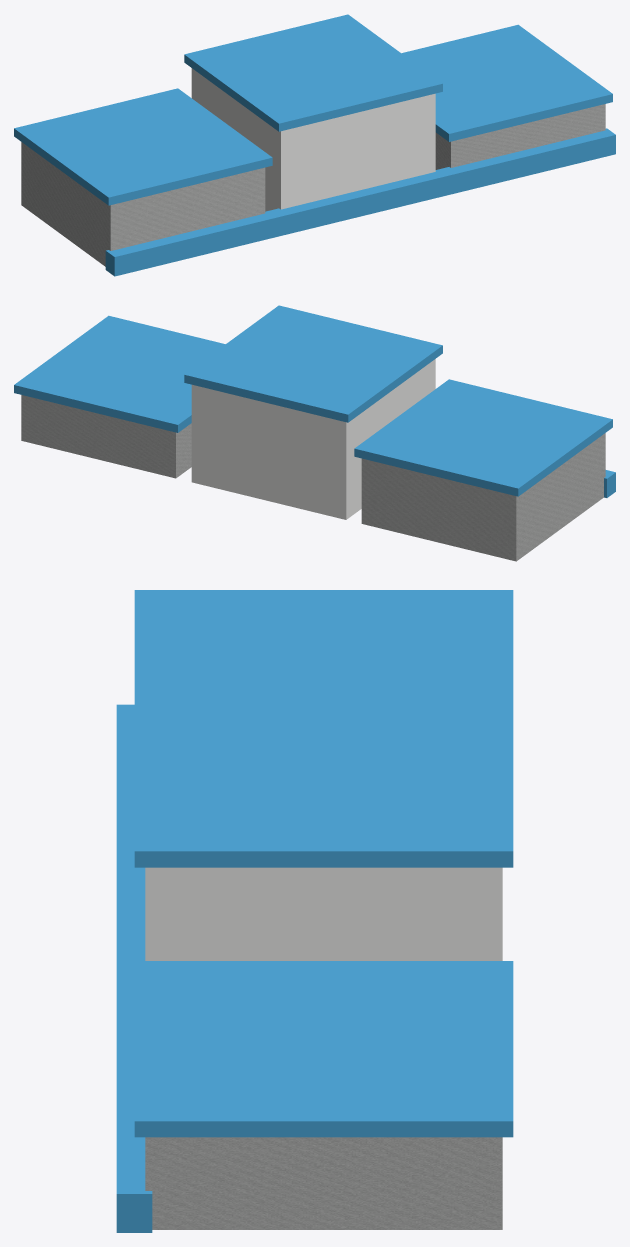
File: velodrome-and-track-cycling-presentation-podium-445bfd37__38010.glb
3 views of the same model, one above another, from view 1: azimuth 30°, elevation 25°; view 2: azimuth 150°, elevation 25°; view 3: azimuth 270°, elevation 25° (orthographic). The views are drawn at different scales.
Visible parts, largest first — view 1: presentation-podium-azure, presentation-podium-apron, presentation-podium-chalk; view 2: presentation-podium-azure, presentation-podium-apron, presentation-podium-chalk; view 3: presentation-podium-azure, presentation-podium-chalk, presentation-podium-apron.
Boxes of the visible parts, bbox=[...] form: presentation-podium-azure: bbox=[14, 14, 615, 276]; presentation-podium-apron: bbox=[21, 104, 605, 266]; presentation-podium-chalk: bbox=[191, 68, 435, 211]; presentation-podium-azure: bbox=[14, 305, 615, 497]; presentation-podium-apron: bbox=[21, 395, 605, 561]; presentation-podium-chalk: bbox=[191, 359, 435, 519]; presentation-podium-azure: bbox=[116, 590, 513, 1232]; presentation-podium-chalk: bbox=[145, 867, 502, 960]; presentation-podium-apron: bbox=[145, 1137, 502, 1229].
Size of the model in its own units: 3.26 by 0.6699 by 1.11.
Materials: 3 (1 with a texture image).
